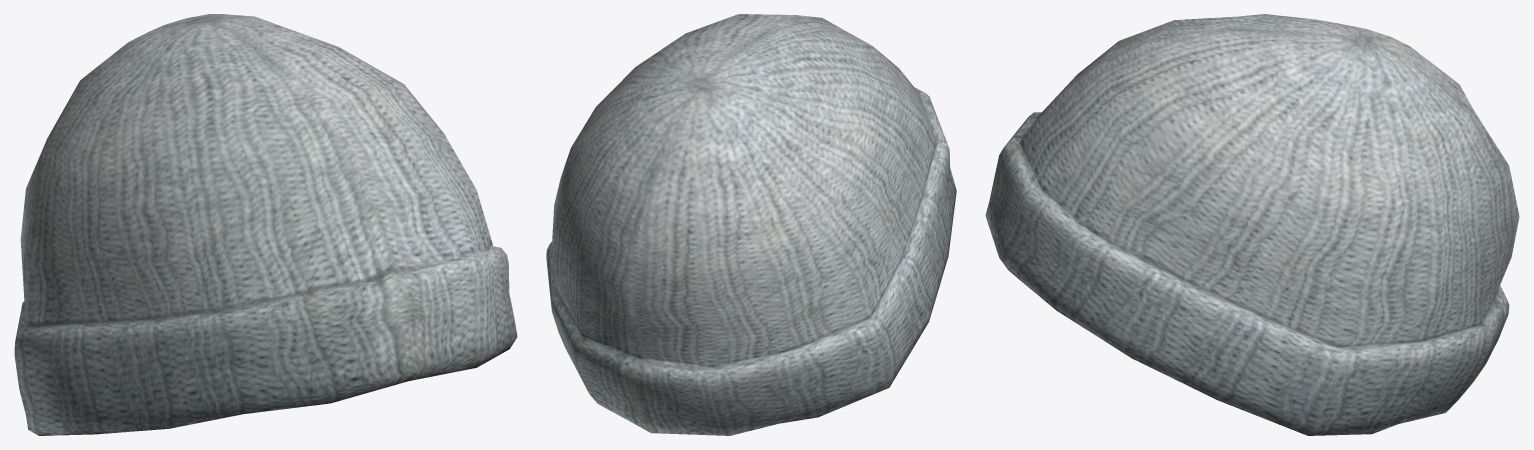
File: mindfront-knitted-hat-01.glb
3 renders of one model, left to right at view 1: azimuth 30°, elevation 25°; view 2: azimuth 150°, elevation 25°; view 3: azimuth 270°, elevation 25°, orthographic. The views are drawn at different scales.
Parts seen in each view (by area): view 1: Human.mindfront_knitted_hat_01; view 2: Human.mindfront_knitted_hat_01; view 3: Human.mindfront_knitted_hat_01.
Boxes of the visible parts, <box> form: Human.mindfront_knitted_hat_01: <box>14,14,517,435</box>; Human.mindfront_knitted_hat_01: <box>546,14,956,435</box>; Human.mindfront_knitted_hat_01: <box>985,14,1519,435</box>.
Bounding box in the file's own units: 0.1833 × 0.1668 × 0.2285.
1 material, 1 textured.
